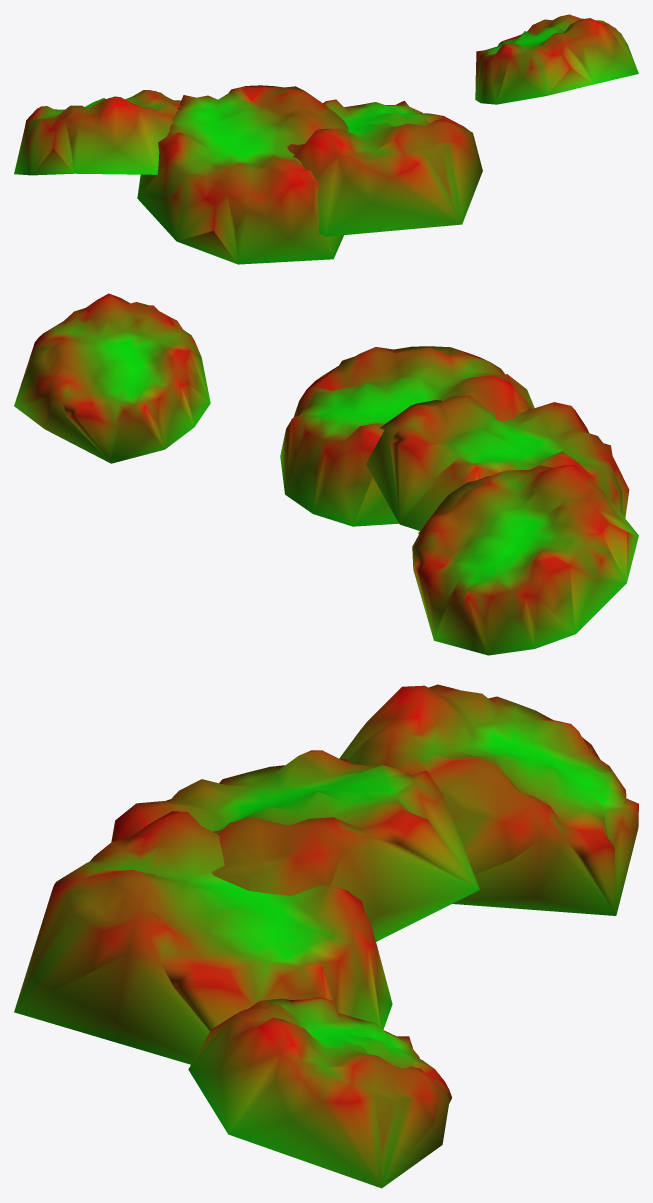
The model's file is escapeship.fbx.
3 views of the same model, one above another, from view 1: azimuth 30°, elevation 25°; view 2: azimuth 150°, elevation 25°; view 3: azimuth 270°, elevation 25° (orthographic). The views are drawn at different scales.
Parts seen in each view (by area): view 1: Terrain (×4); view 2: Terrain (×4); view 3: Terrain (×4).
Part boxes in pixels (<box>): Terrain (×4): <box>14,14,638,264</box>; Terrain (×4): <box>14,293,638,655</box>; Terrain (×4): <box>14,684,638,1188</box>.
Size of the model in its own units: 37.61 by 8.35 by 22.85.
